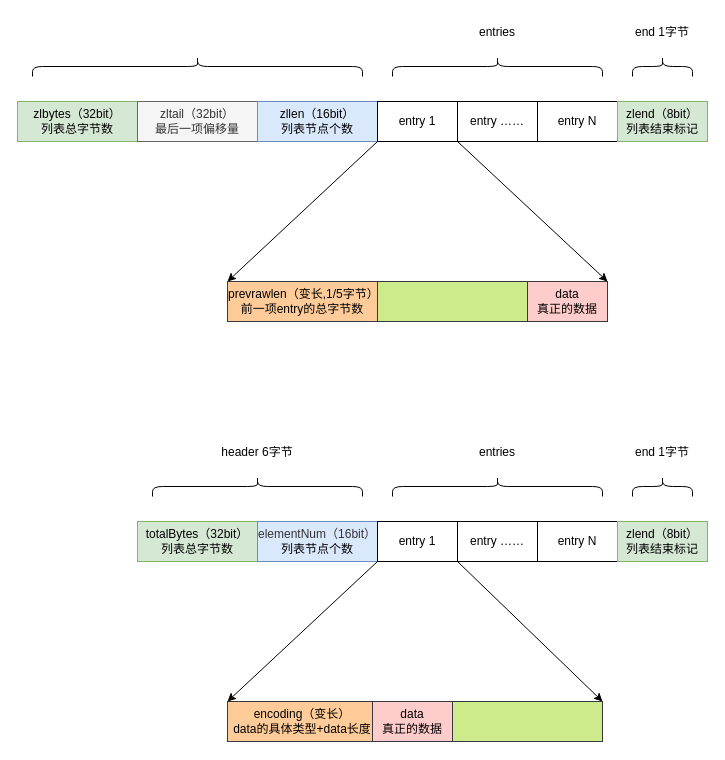
Image size: 725x760. Some labels were removed from this diagram. Each missing label, with the centre of its shape:
element-len（变长） 当前entry的长度(encoding+data,不含自身): the point at 527,721
header 10字节: the point at 197,66
len（变长,1/2/5字节） 当前entry的data数据长度: the point at 452,301
